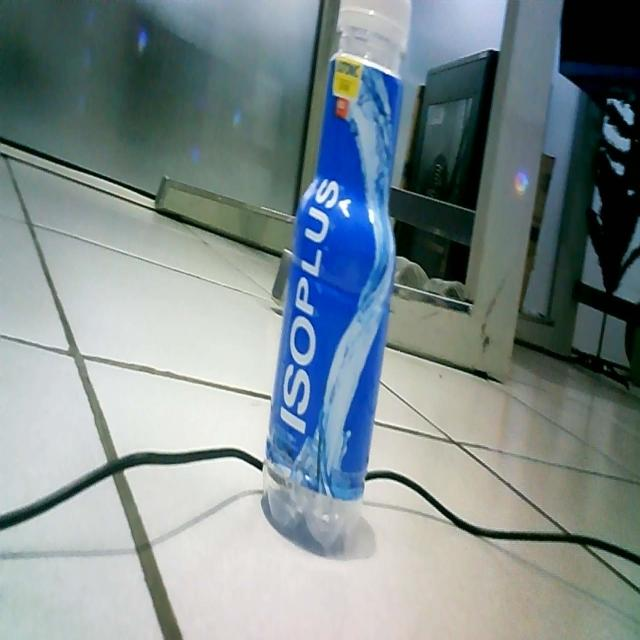botol: (261, 1, 416, 557)
